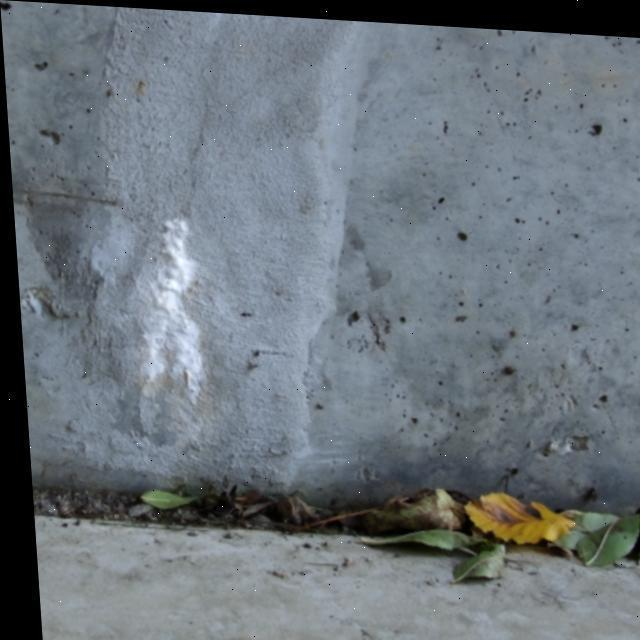D01: (138, 218, 209, 414)
